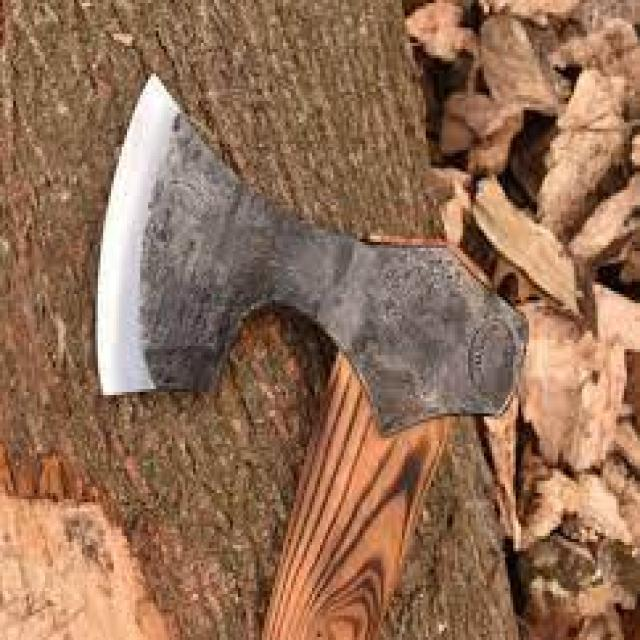Gun: (87, 57, 530, 640)
